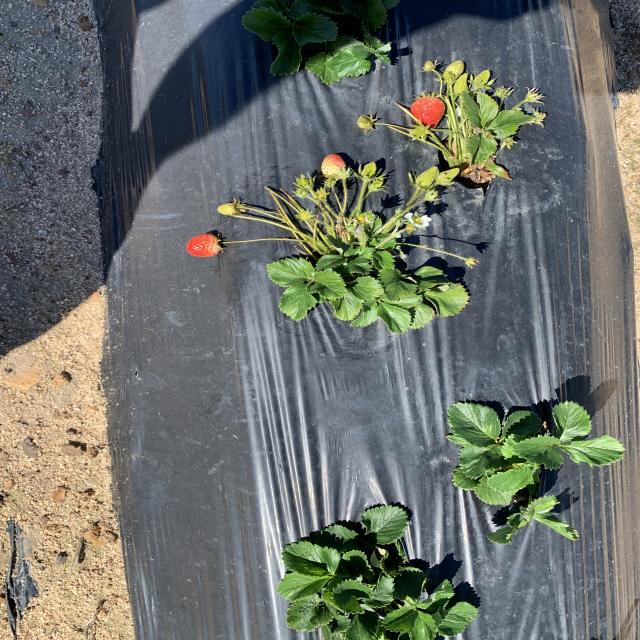unripe: (409, 94, 448, 132), (187, 232, 226, 260)
